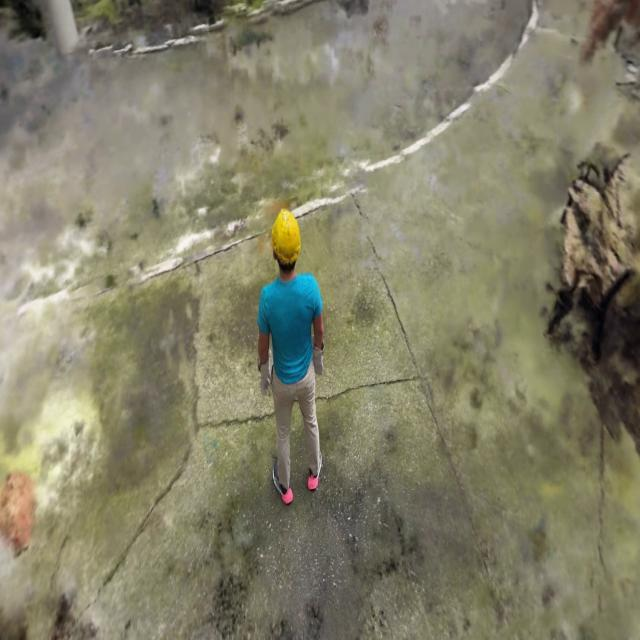gloves: (255, 352, 272, 408), (312, 337, 328, 382)
helmet: (269, 208, 304, 262)
